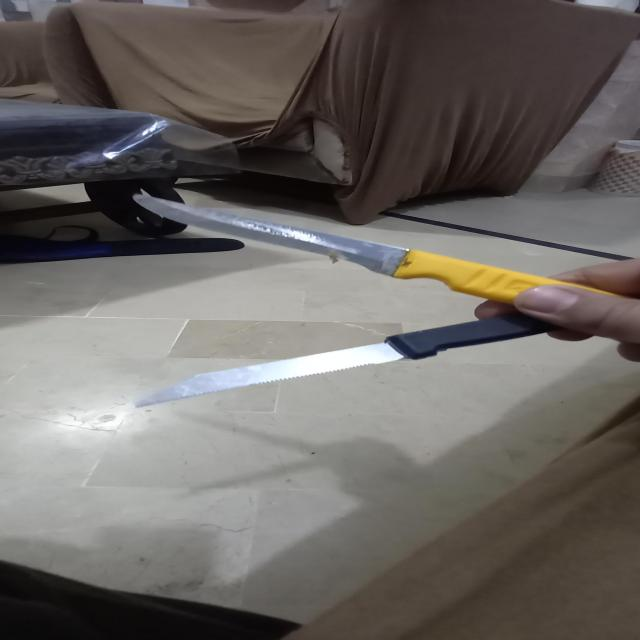Knife: (139, 196, 625, 311), (135, 311, 556, 407)
Person: (472, 257, 640, 363)
